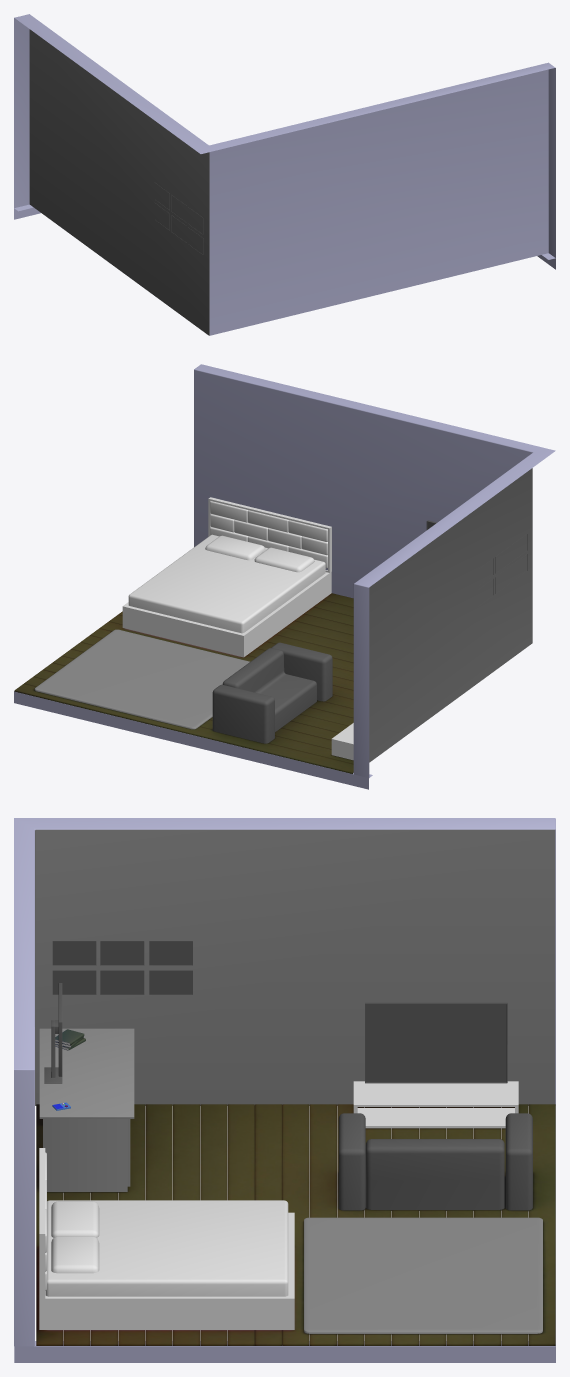
The model's file is working_room.glb.
3 renders of one model, top to bottom at view 1: azimuth 30°, elevation 25°; view 2: azimuth 150°, elevation 25°; view 3: azimuth 270°, elevation 25°, orthographic. The views are drawn at different scales.
Visible parts, largest first — view 1: Plane.001, Plane; view 2: Plane.001, floor_wood, carpet, cusion, base, Plane, sofa_1, sofa_2, sofa_3, pillow.001, pillow, top (+4 smaller); view 3: Plane.001, floor_wood, carpet, cusion, tv, sofa_1, Plane, base, desk.006, tv_stand, desk.005, sofa_2 (+10 smaller).
Part boxes in pixels (<box>): Plane.001: <box>14,14,555,335</box>; Plane: <box>14,204,555,269</box>; Plane.001: <box>194,364,555,777</box>; floor_wood: <box>14,593,353,773</box>; carpet: <box>34,629,249,729</box>; cusion: <box>128,534,325,633</box>; base: <box>122,572,331,657</box>; Plane: <box>14,691,372,789</box>; sofa_1: <box>222,648,316,731</box>; sofa_2: <box>212,684,274,743</box>; sofa_3: <box>271,642,332,701</box>; pillow.001: <box>254,547,314,572</box>; pillow: <box>205,535,265,560</box>; top: <box>208,497,331,572</box>; Plane.001: <box>14,818,555,1346</box>; floor_wood: <box>36,1104,555,1345</box>; carpet: <box>304,1217,542,1334</box>; cusion: <box>45,1200,288,1296</box>; tv: <box>365,1002,507,1083</box>; sofa_1: <box>365,1139,504,1210</box>; Plane: <box>14,1106,555,1362</box>; base: <box>39,1212,294,1329</box>; desk.006: <box>39,1028,134,1118</box>; tv_stand: <box>353,1081,518,1128</box>; desk.005: <box>43,1119,127,1192</box>; sofa_2: <box>505,1113,532,1210</box>.
Size of the model in its own units: 2.84 by 1.55 by 2.59.
18 materials, 2 textured.
